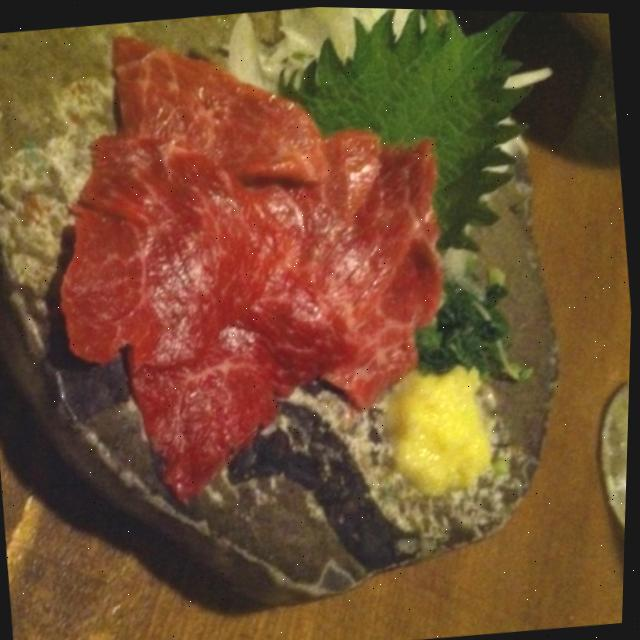刺身生食: (4, 14, 524, 520)
